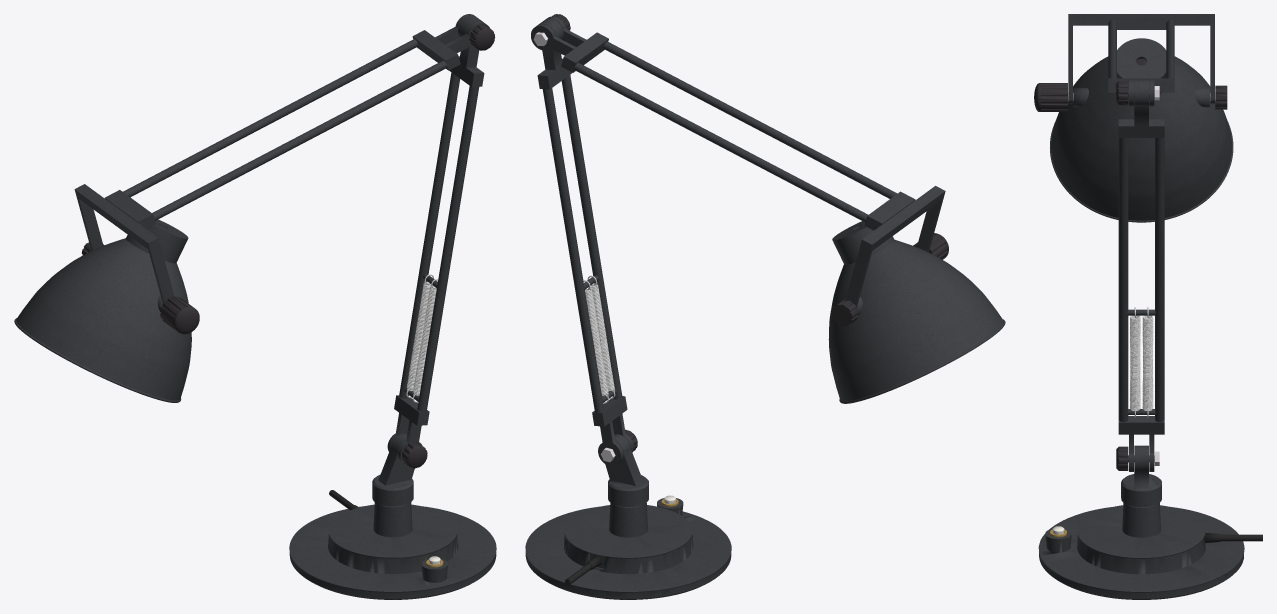
Rendered from desk_lamp.glb.
3 views of the same model, side by side, from view 1: azimuth 30°, elevation 25°; view 2: azimuth 150°, elevation 25°; view 3: azimuth 270°, elevation 25° (orthographic).
Visible parts, largest first — view 1: Casting_mesh, Cord_mesh; view 2: Casting_mesh, Cord_mesh; view 3: Casting_mesh, Cord_mesh.
Boxes of the visible parts, <box> form: Casting_mesh: <box>14,14,496,599</box>; Cord_mesh: <box>81,24,495,599</box>; Casting_mesh: <box>525,16,1005,599</box>; Cord_mesh: <box>533,14,948,599</box>; Casting_mesh: <box>1038,14,1244,599</box>; Cord_mesh: <box>1034,58,1262,599</box>.
Size of the model in its own units: 0.434 by 0.4718 by 0.1896.
4 materials, 4 textured.
